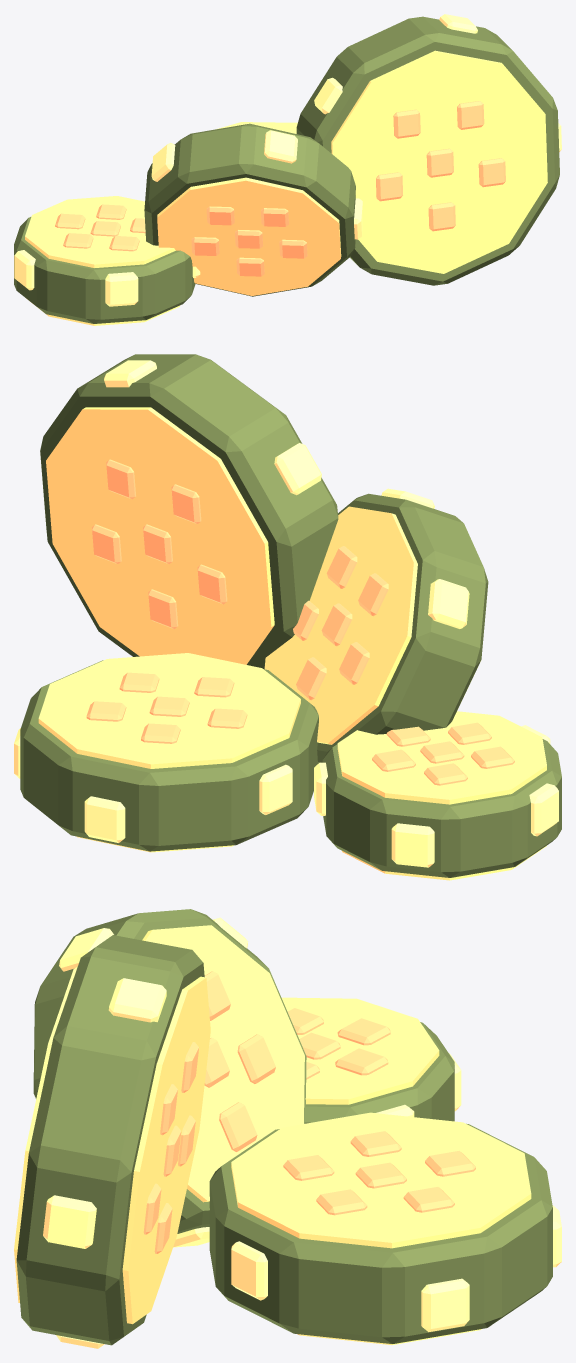
File: VolcanoMoltenSlice.fbx
3 views of the same model, one above another, from view 1: azimuth 30°, elevation 25°; view 2: azimuth 150°, elevation 25°; view 3: azimuth 270°, elevation 25° (orthographic). The views are drawn at different scales.
Visible parts, largest first — view 1: VolcanoMoltenSlice.Faces, VolcanoMoltenSlice.Rims, VolcanoMoltenSlice.Seeds, VolcanoMoltenSlice.RimStuds; view 2: VolcanoMoltenSlice.Faces, VolcanoMoltenSlice.Rims, VolcanoMoltenSlice.Seeds, VolcanoMoltenSlice.RimStuds; view 3: VolcanoMoltenSlice.Rims, VolcanoMoltenSlice.Faces, VolcanoMoltenSlice.Seeds, VolcanoMoltenSlice.RimStuds.
Part boxes in pixels (x1=…): VolcanoMoltenSlice.Faces: x1=25, y1=50, x2=547, y2=325; VolcanoMoltenSlice.Rims: x1=14, y1=16, x2=559, y2=323; VolcanoMoltenSlice.Seeds: x1=55, y1=101, x2=505, y2=276; VolcanoMoltenSlice.RimStuds: x1=14, y1=14, x2=561, y2=306; VolcanoMoltenSlice.Faces: x1=38, y1=407, x2=546, y2=880; VolcanoMoltenSlice.Rims: x1=20, y1=354, x2=561, y2=877; VolcanoMoltenSlice.Seeds: x1=86, y1=459, x2=514, y2=785; VolcanoMoltenSlice.RimStuds: x1=14, y1=360, x2=558, y2=867; VolcanoMoltenSlice.Rims: x1=16, y1=909, x2=552, y2=1345; VolcanoMoltenSlice.Faces: x1=14, y1=925, x2=531, y2=1344; VolcanoMoltenSlice.Seeds: x1=143, y1=971, x2=475, y2=1253; VolcanoMoltenSlice.RimStuds: x1=43, y1=917, x2=561, y2=1348.
Bounding box in the file's own units: 3.36 × 1.77 × 2.28.
